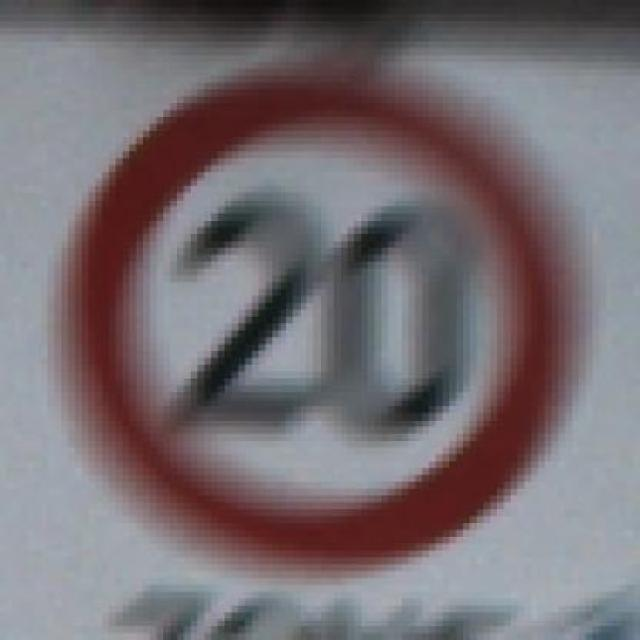forb_speed_over_20: (74, 74, 561, 575)
